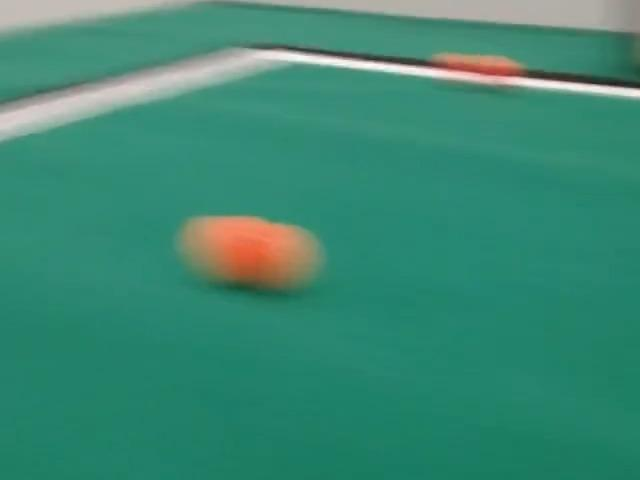Ball: (179, 216, 320, 289)
